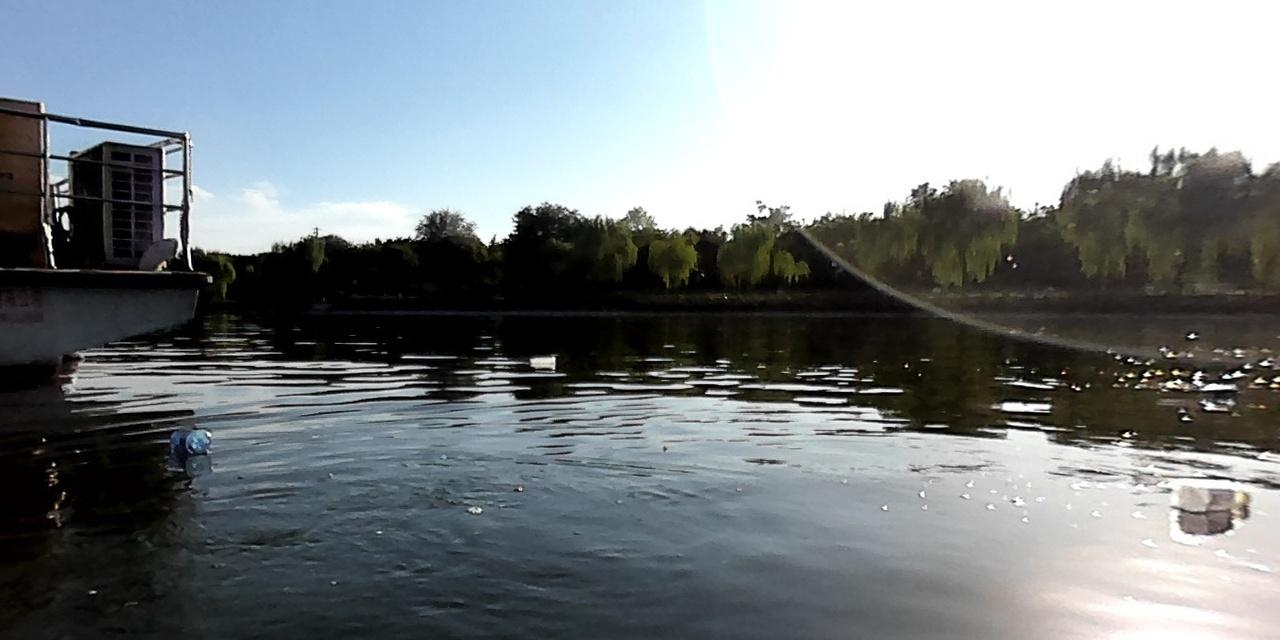bottle: (1166, 480, 1254, 512), (158, 422, 214, 456), (525, 353, 556, 366)
